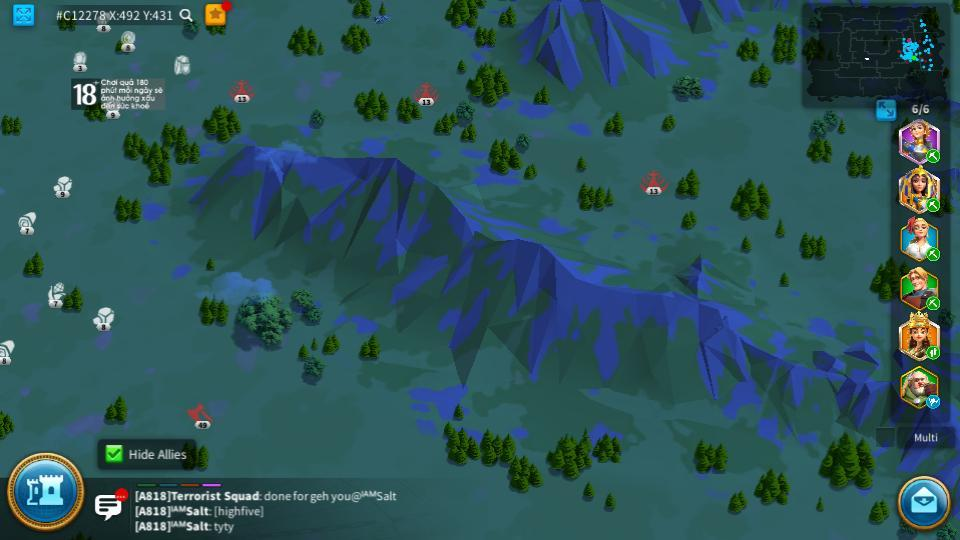gem-z-out: (69, 51, 90, 72)
march_farming: (925, 197, 941, 212)
march_idle: (925, 394, 942, 408)
march_marching: (925, 347, 942, 359), (925, 150, 942, 162), (925, 248, 941, 260), (926, 297, 941, 308)
